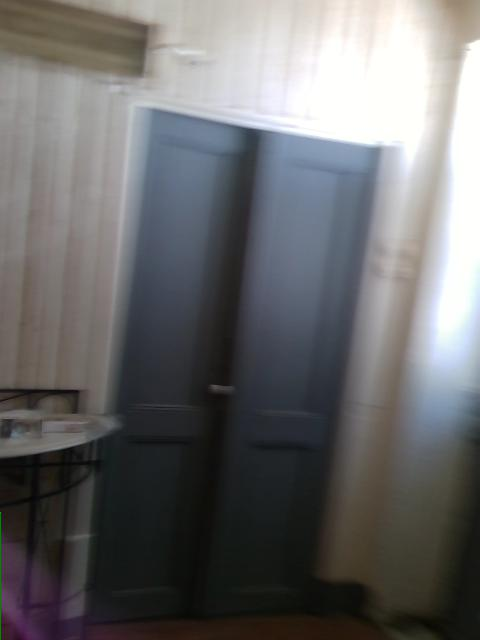door: (81, 99, 391, 626)
